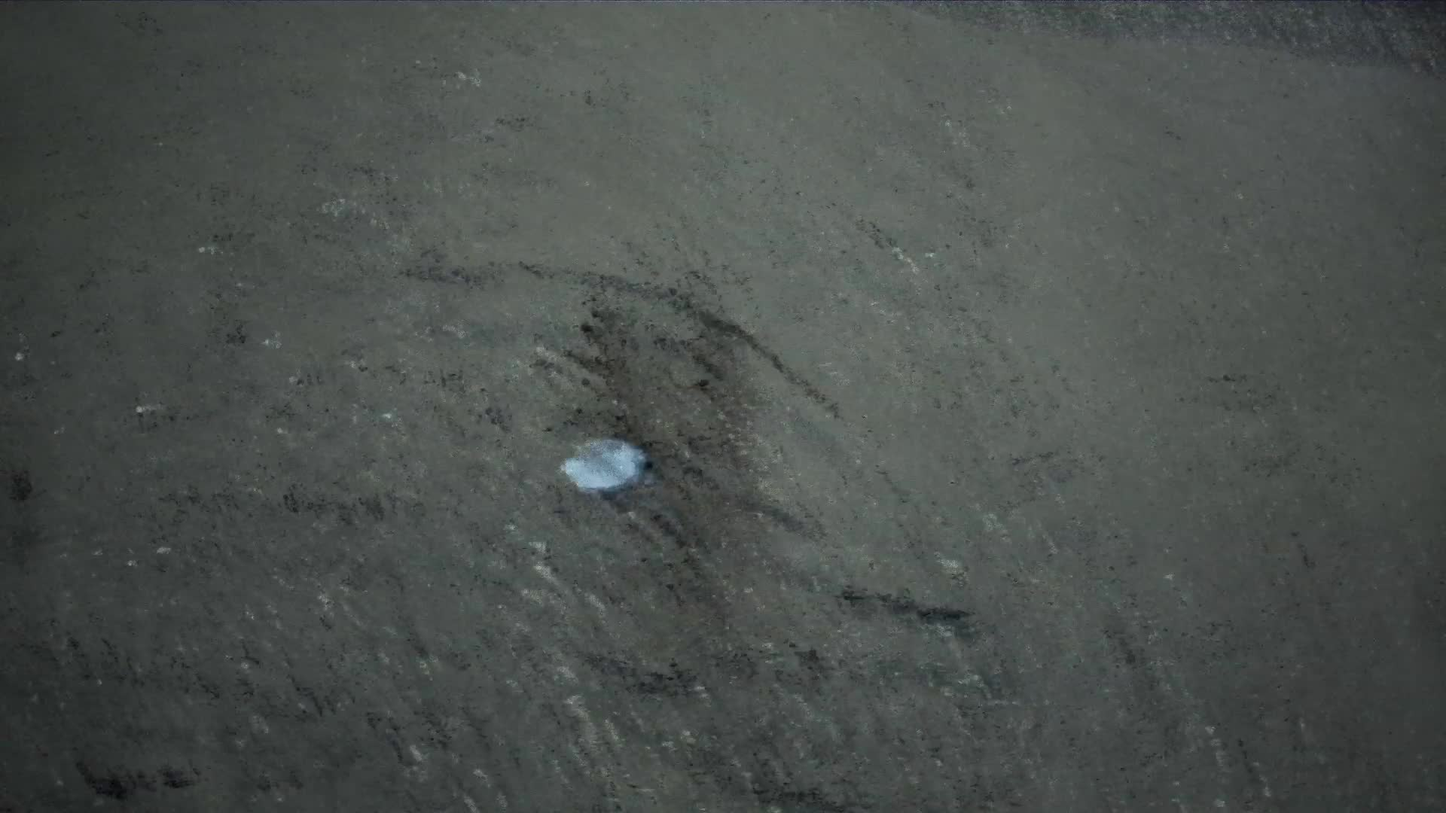Target: (555, 434, 645, 495)
